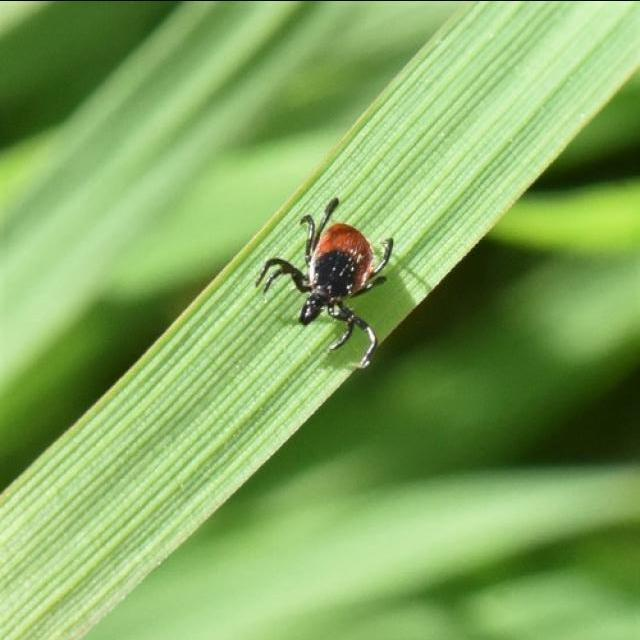Ixodes Ricinus-F: (255, 195, 394, 366)
